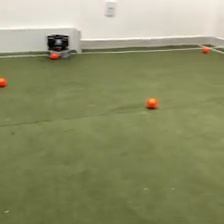ball: (146, 96, 157, 108), (201, 45, 209, 54), (1, 76, 7, 87), (50, 51, 58, 59)
goal: (1, 26, 84, 54)
robot: (44, 33, 71, 58)
